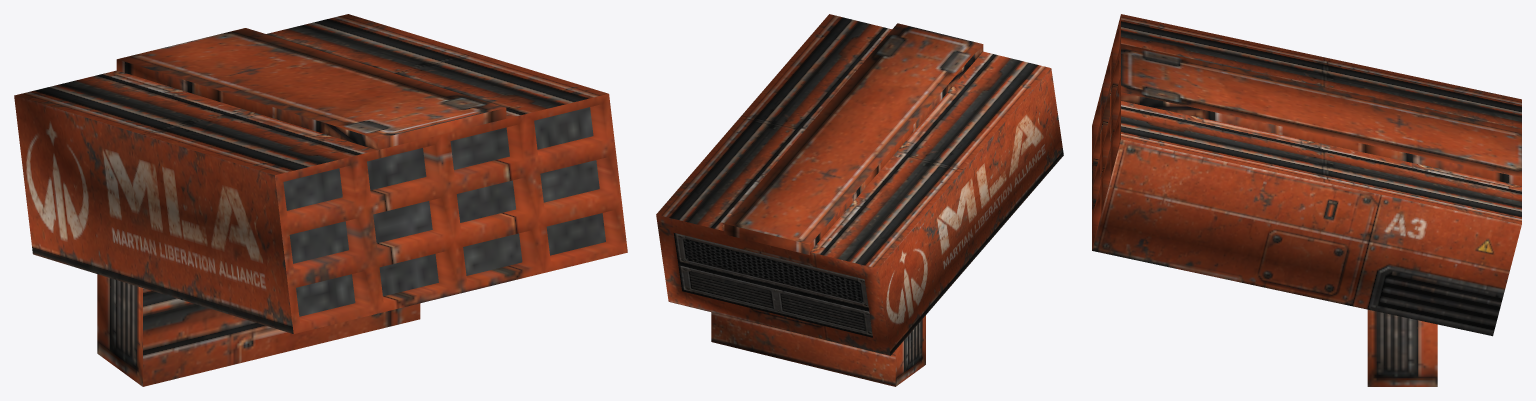
Rendered from lanc_drone.dae.
3 renders of one model, left to right at view 1: azimuth 30°, elevation 25°; view 2: azimuth 150°, elevation 25°; view 3: azimuth 270°, elevation 25°, orthographic. The views are drawn at different scales.
Parts seen in each view (by area): view 1: lanc_drone; view 2: lanc_drone; view 3: lanc_drone.
Part boxes in pixels (box(x1,y1,x2,y2)): lanc_drone: box(14, 14, 627, 386); lanc_drone: box(656, 14, 1063, 386); lanc_drone: box(1092, 14, 1521, 386).
Bounding box in the file's own units: 6.49 × 9.4 × 6.44.
